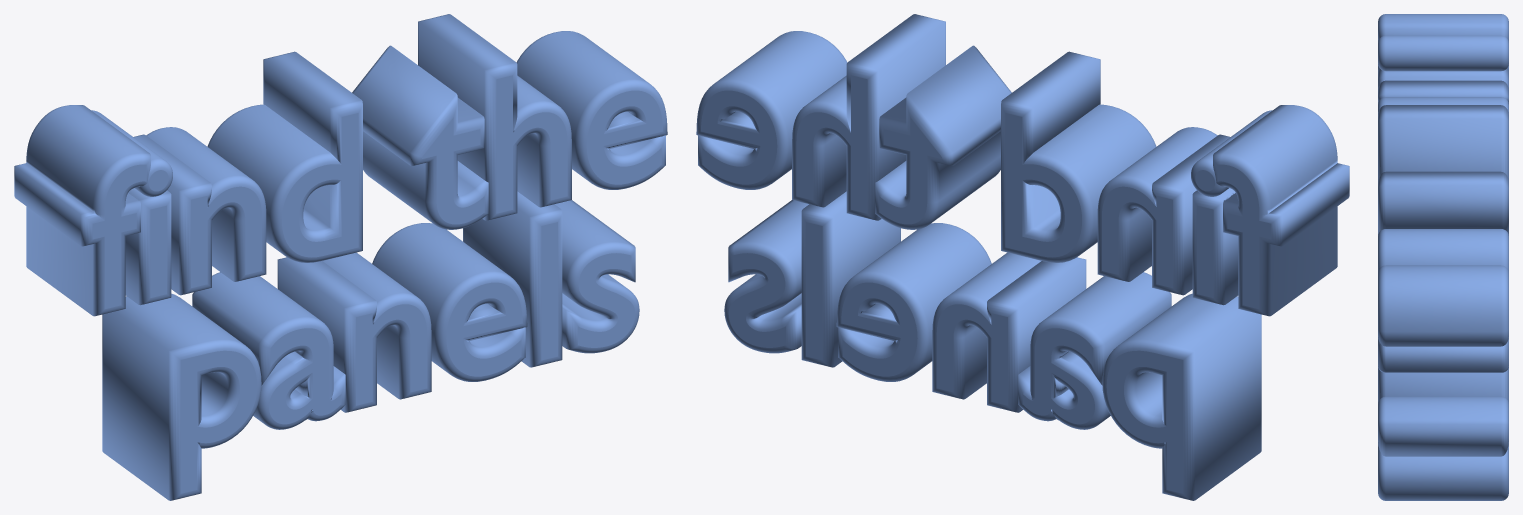
Rendered from hint1.glb.
The picture shows the model from 3 angles, left to right: view 1: azimuth 30°, elevation 25°; view 2: azimuth 150°, elevation 25°; view 3: azimuth 270°, elevation 25°; orthographic projection. The views are drawn at different scales.
Parts seen in each view (by area): view 1: Text; view 2: Text; view 3: Text.
Boxes of the visible parts, x1,y1,x2,y2 form: Text: (14,14,667,500); Text: (696,14,1349,500); Text: (1378,14,1508,500).
Bounding box in the file's own units: 3.11 × 1.8 × 0.68.
